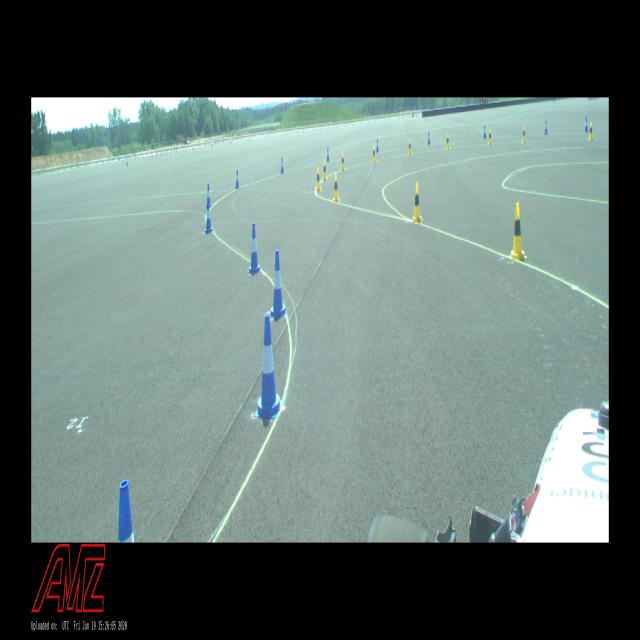blue_cone: (255, 314, 282, 418), (270, 250, 287, 318), (248, 224, 260, 274), (204, 200, 213, 233), (206, 184, 212, 208), (235, 170, 240, 189), (280, 157, 284, 173), (584, 117, 588, 132), (544, 120, 548, 134), (326, 148, 330, 162), (376, 138, 379, 152), (484, 125, 486, 138), (428, 132, 430, 144)
yellow_cone: (510, 203, 527, 260), (412, 182, 423, 224), (332, 173, 340, 202), (316, 168, 322, 191), (323, 160, 327, 179), (589, 122, 593, 140), (341, 152, 345, 170), (522, 126, 526, 142), (408, 139, 412, 155), (488, 129, 492, 145), (372, 146, 376, 161), (446, 133, 449, 149)
